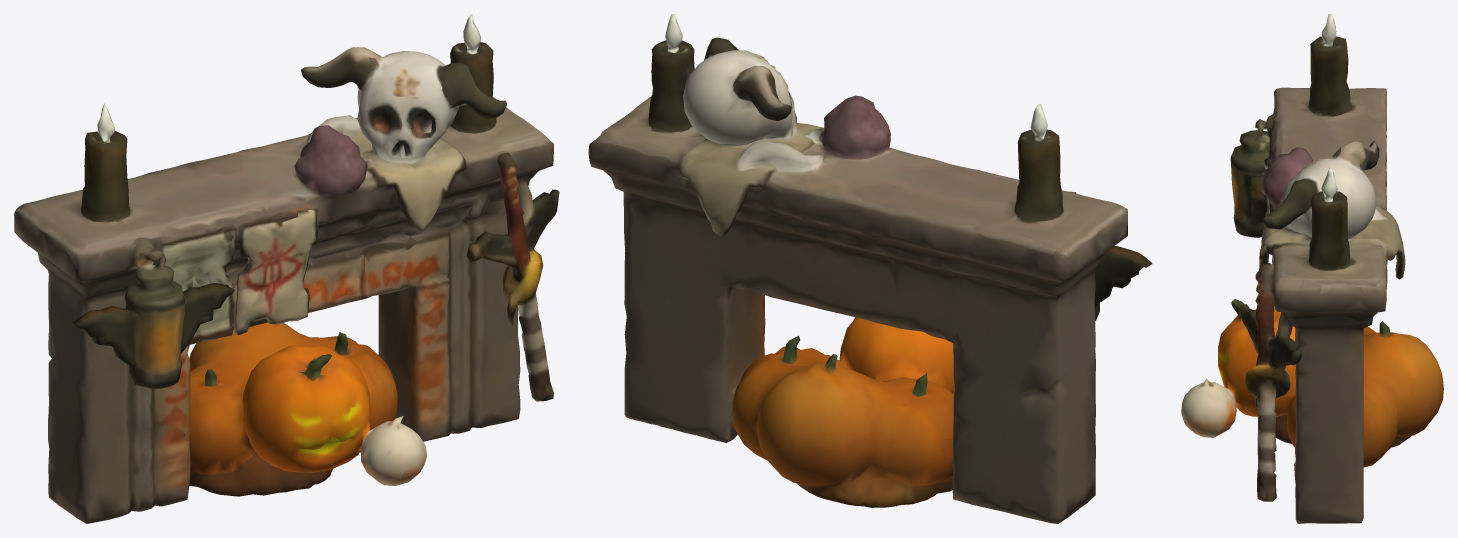
The model's file is halloween-fireplace.glb.
3 views of the same model, side by side, from view 1: azimuth 30°, elevation 25°; view 2: azimuth 150°, elevation 25°; view 3: azimuth 270°, elevation 25° (orthographic). The views are drawn at different scales.
Visible parts, largest first — view 1: geometry_0; view 2: geometry_0; view 3: geometry_0.
Boxes of the visible parts, x1=… form: geometry_0: x1=14, y1=14, x2=559, y2=523; geometry_0: x1=588, y1=14, x2=1152, y2=523; geometry_0: x1=1181, y1=14, x2=1443, y2=523.
Size of the model in its own units: 2.7 by 2.05 by 1.41.
1 material, 1 textured.
